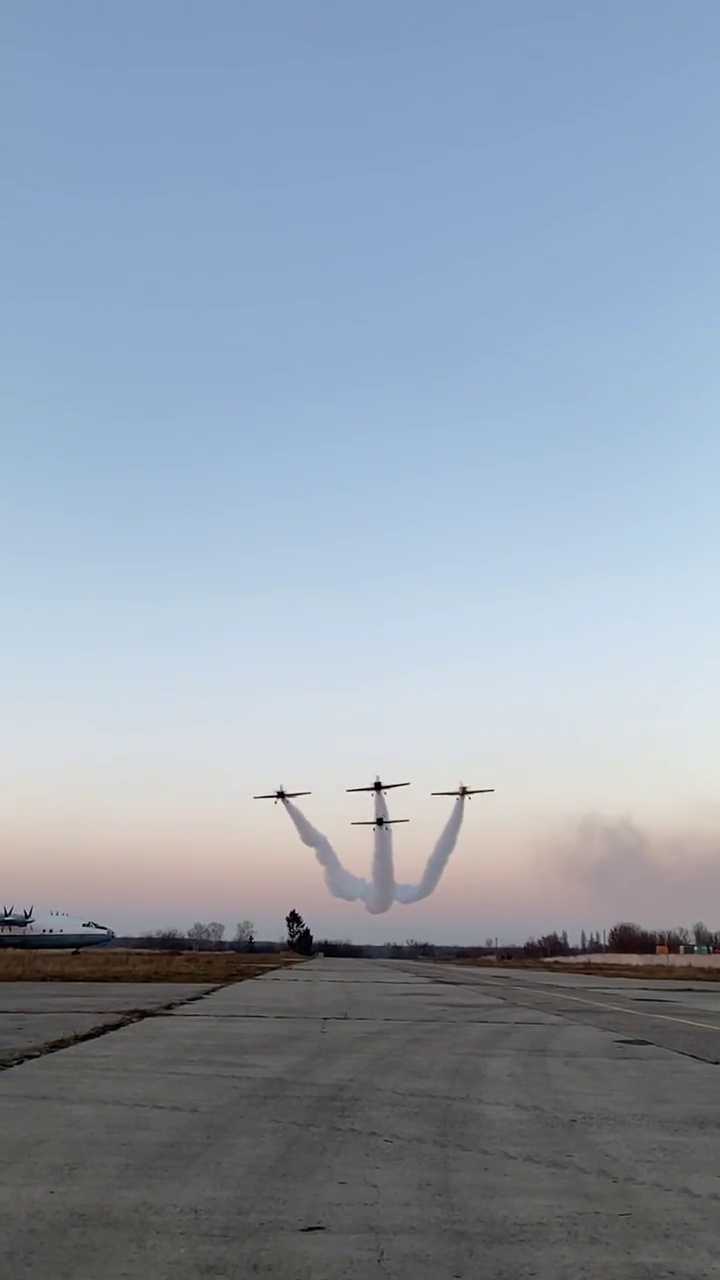plane: (346, 775, 409, 798), (430, 782, 496, 802), (350, 811, 410, 831), (252, 785, 309, 805)
